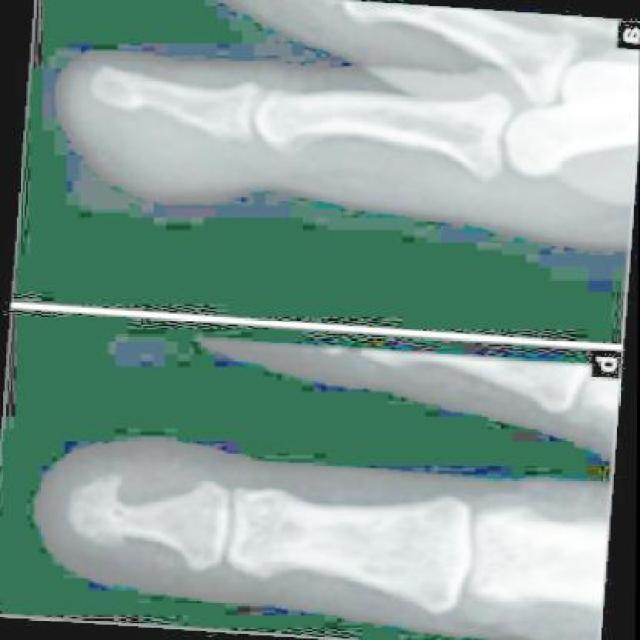Fracture: (46, 472, 150, 565), (85, 68, 159, 128)
